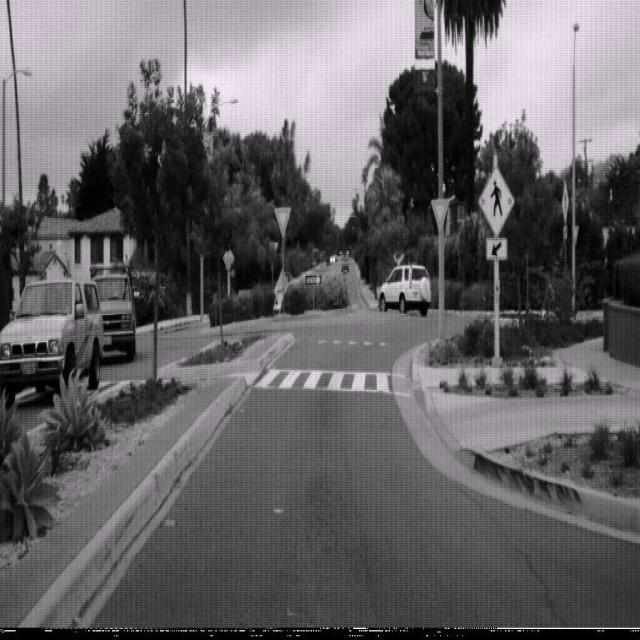pedestrianCrossing: (478, 163, 516, 238)
yield: (431, 196, 450, 231), (274, 206, 291, 237)
